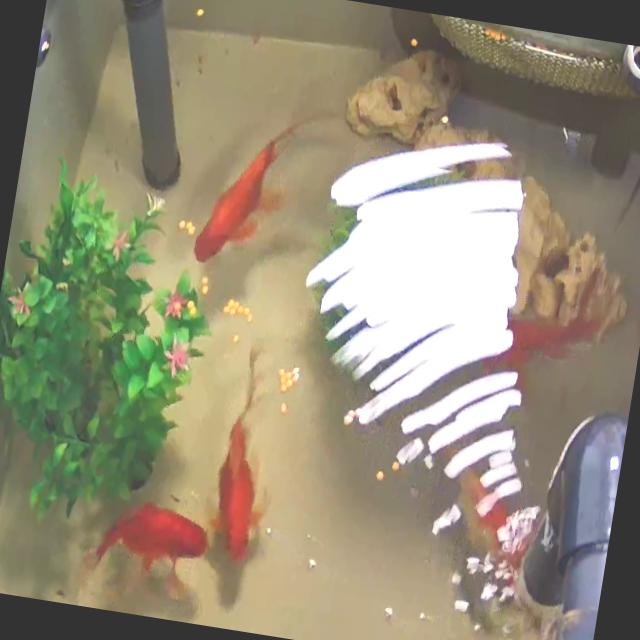fish: (193, 110, 306, 278), (82, 494, 212, 596), (204, 393, 282, 563), (497, 300, 614, 381)
